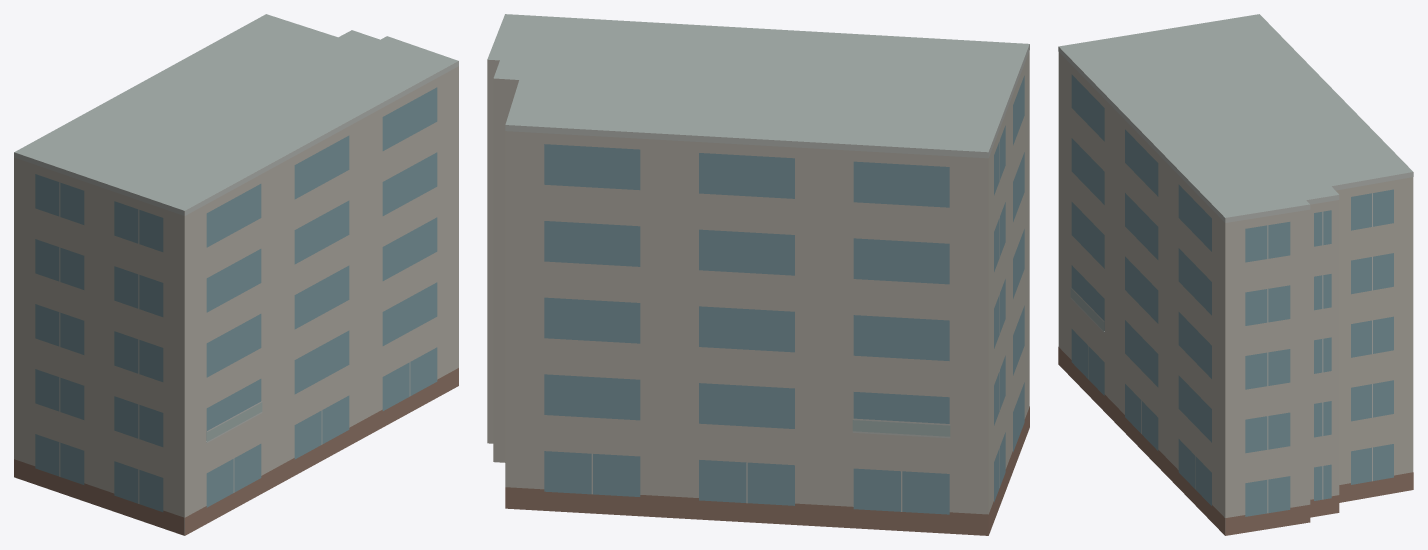
The model's file is survey-upis-33012880.glb.
3 views of the same model, side by side, from view 1: azimuth 30°, elevation 25°; view 2: azimuth 150°, elevation 25°; view 3: azimuth 270°, elevation 25° (orthographic). The views are drawn at different scales.
Parts seen in each view (by area): view 1: survey-upis-33012880.tmp; view 2: survey-upis-33012880.tmp; view 3: survey-upis-33012880.tmp.
Part boxes in pixels (box(x1,y1,x2,y2)): survey-upis-33012880.tmp: box(14, 14, 458, 535); survey-upis-33012880.tmp: box(487, 14, 1029, 535); survey-upis-33012880.tmp: box(1058, 14, 1413, 535).
Bounding box in the file's own units: 20.98 × 15.25 × 15.44.
